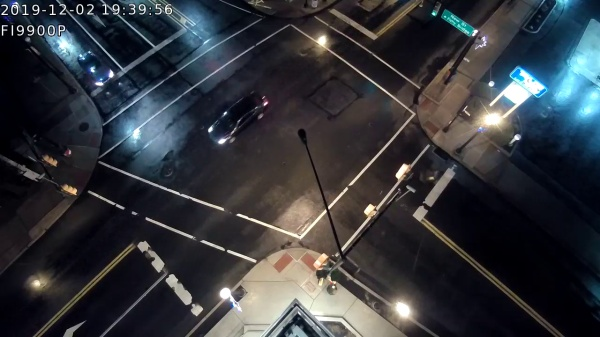car: (210, 88, 270, 147), (76, 53, 115, 88)
